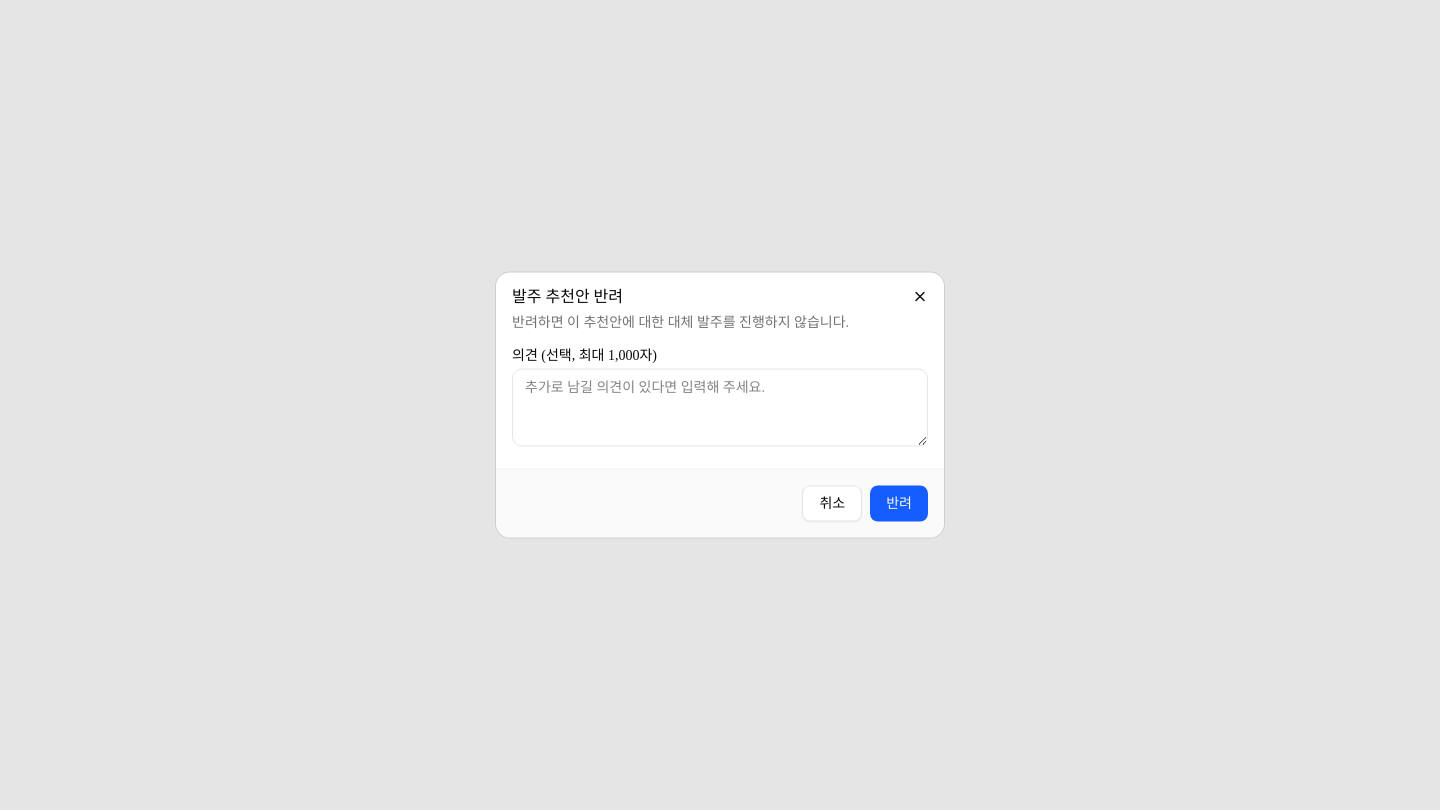
Test: RestockDecisionConfirmDialog › 반려 성공 + REJECTED 응답이면 반려 안내를 보여준다
Click the button "반려" at (899, 504), box x1=870 y1=486 x2=928 y2=522
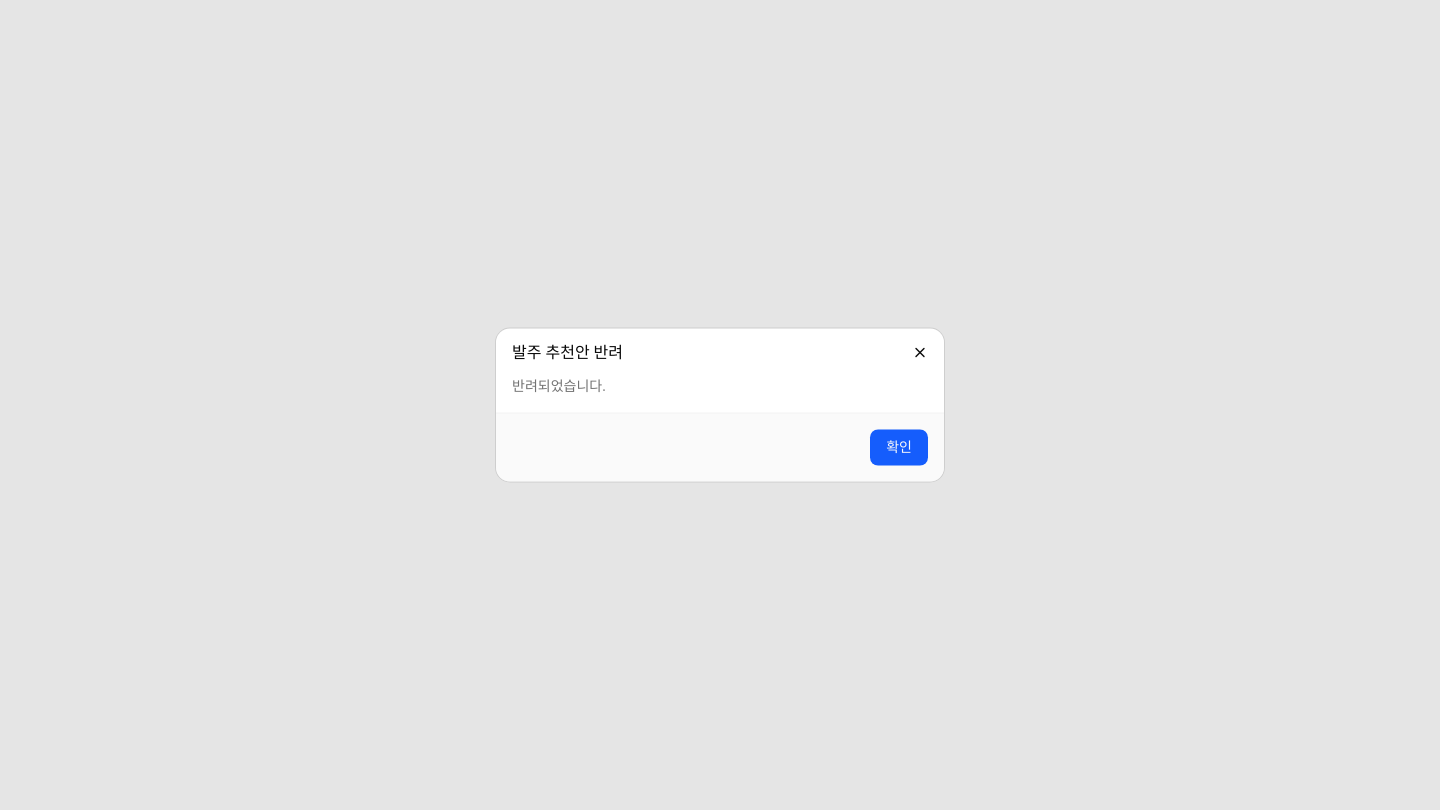
Now the text "반려되었습니다." is shown, box x1=512 y1=378 x2=606 y2=394
